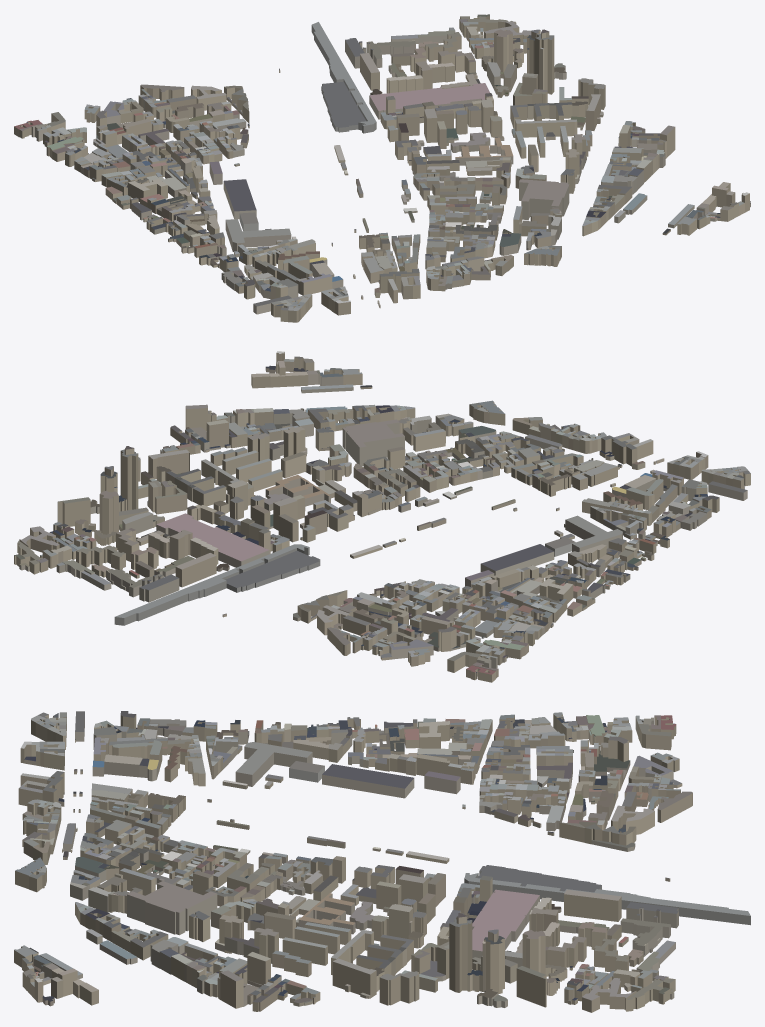
3 renders of one model, top to bottom at view 1: azimuth 30°, elevation 25°; view 2: azimuth 150°, elevation 25°; view 3: azimuth 270°, elevation 25°, orthographic. The views are drawn at different scales.
Visible parts, largest first — view 1: tuile; view 2: tuile; view 3: tuile.
Part boxes in pixels (x1=…): tuile: x1=14, y1=14, x2=750, y2=322; tuile: x1=14, y1=351, x2=750, y2=682; tuile: x1=14, y1=711, x2=750, y2=1012.
Size of the model in its own units: 1053 by 127 by 1135.
